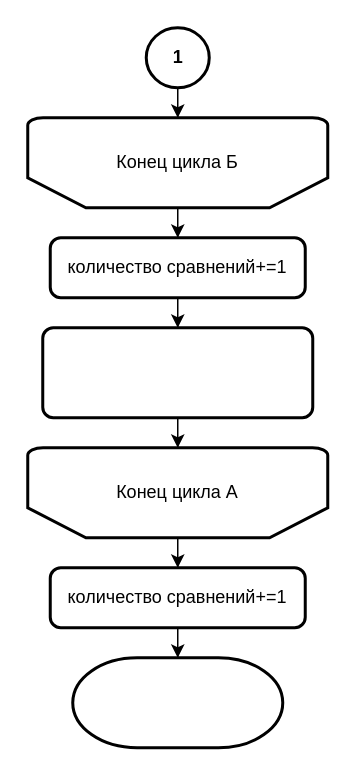
The diagram is 354 pixels wide and 774 high, and some of its shapes have lost their labels. Each missing label, with the box of its shape:
Конец selection_sort: (70, 656, 284, 748)
перестановка элементов: arr[j] , arr[smallestIndex] количество перестановок+=1: (40, 326, 314, 418)
